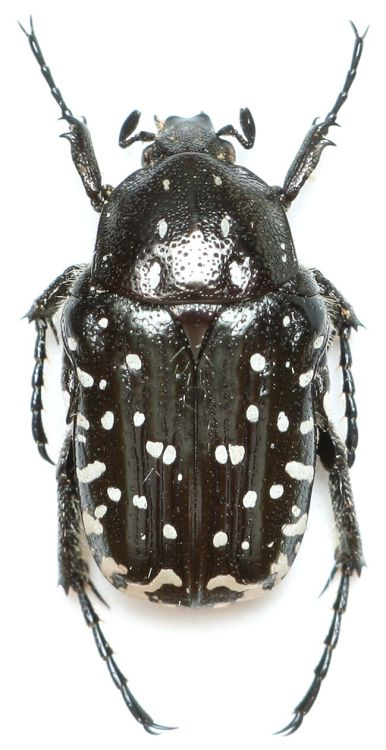Oxythyrea_funesta: (5, 7, 386, 743)
